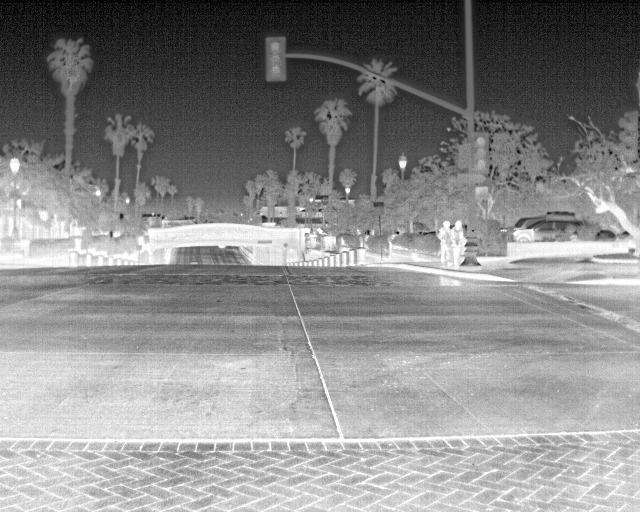bicycle: (508, 219, 580, 240)
empty: (448, 217, 464, 265), (434, 221, 452, 263)
